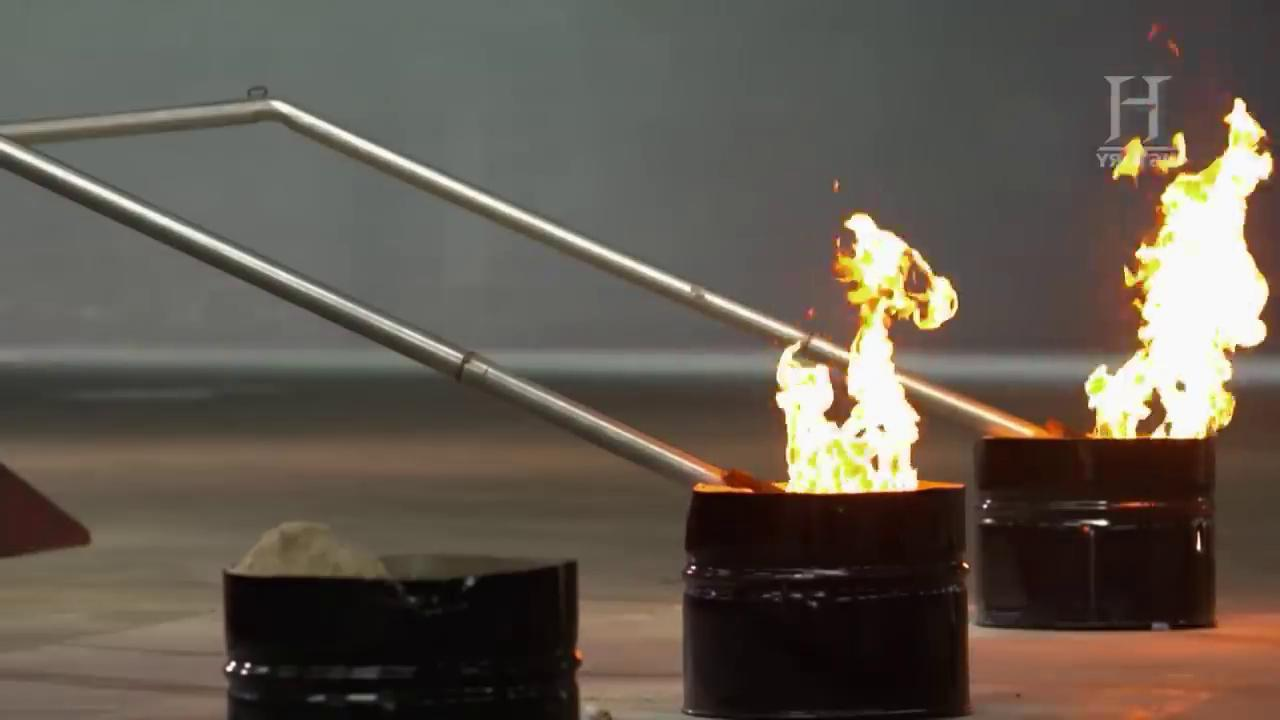Fire: (1033, 95, 1266, 476), (738, 199, 953, 493)
